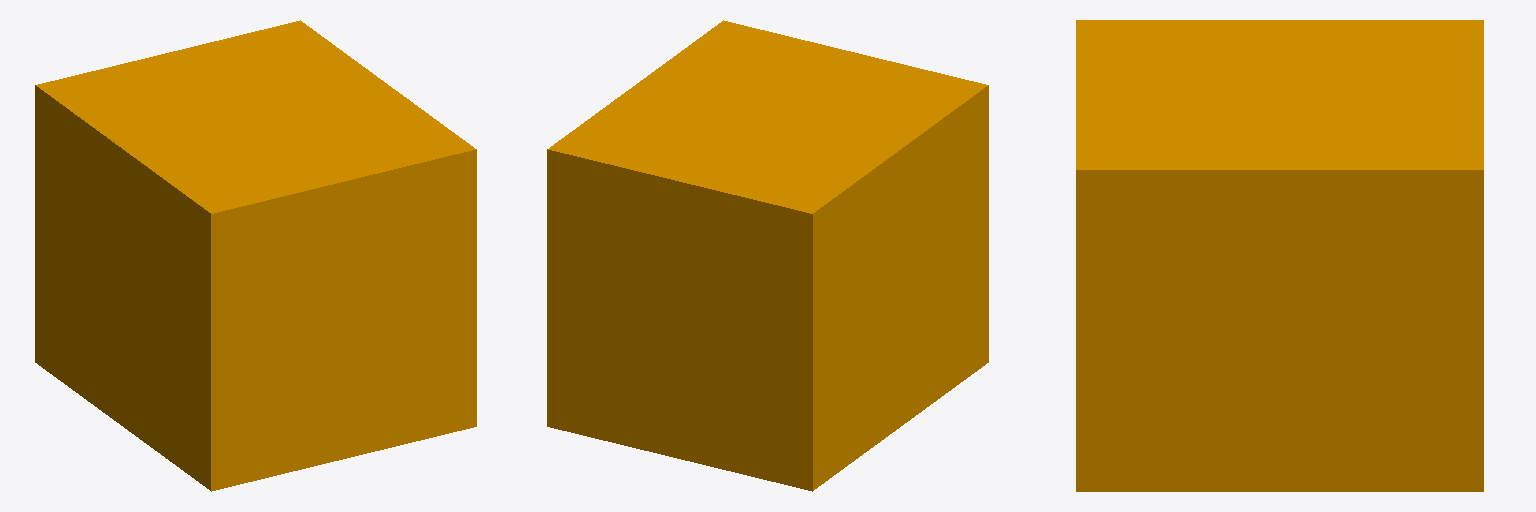
The robot description file, URDF, robot "object":
<robot name="object">
  <link name="object">
    <visual>
      <origin xyz="0 0 0" />
      <geometry>
        <box size="0.08000000000000002 0.09200000000000003 0.08" />
      </geometry>
    </visual>

    <collision>
      <origin xyz="0 0 0" />
      <geometry>
        <box size="0.08000000000000002 0.09200000000000003 0.08" />
      </geometry>
    </collision>

    <inertial>
      <mass value="0.05" />
      <inertia ixx="0.0001" ixy="0.0" ixz="0.0" iyy="0.0001" iyz="0.0" izz="0.0001" />
    </inertial>
  </link>
</robot>

--- What the picture shows (computed from the rendered views, not written in the file) ---
Views: 3 orthographic renders of the robot side by side, from view 1: azimuth 30°, elevation 25°; view 2: azimuth 150°, elevation 25°; view 3: azimuth 270°, elevation 25°.
Robot: object — 1 links, 0 joints (none); root link object; default pose: all joints at 0.
Visible links, largest first — view 1: object; view 2: object; view 3: object.
Boxes of the visible links, box(x1,y1,x2,y2) form: object: box(35, 20, 476, 491); object: box(547, 20, 988, 491); object: box(1076, 20, 1483, 491).
Size in the robot's own frame: 0.08 by 0.092 by 0.08 metres.
Geometry: primitives only (box / cylinder / sphere), no mesh files.